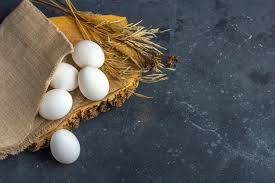kitchen_waste: (77, 64, 114, 102), (47, 127, 83, 166), (69, 37, 109, 70), (37, 87, 75, 121), (45, 59, 81, 94)
